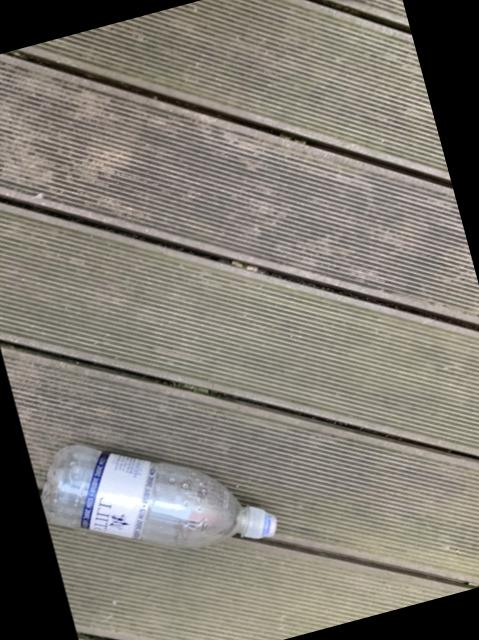plastic: (40, 446, 274, 548)
